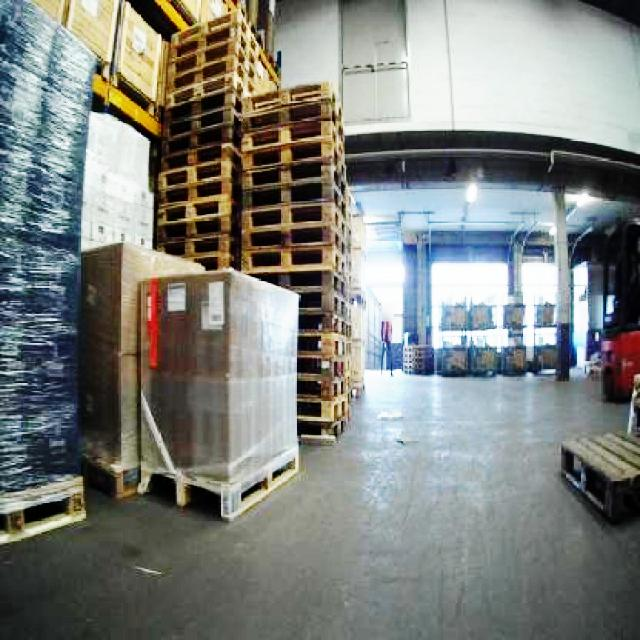ground: (0, 365, 638, 638)
pallet: (152, 2, 362, 445), (237, 78, 355, 443), (135, 266, 300, 518), (77, 238, 206, 498), (154, 9, 245, 271), (434, 292, 558, 375), (558, 426, 638, 523), (0, 474, 86, 552), (434, 343, 557, 375)
